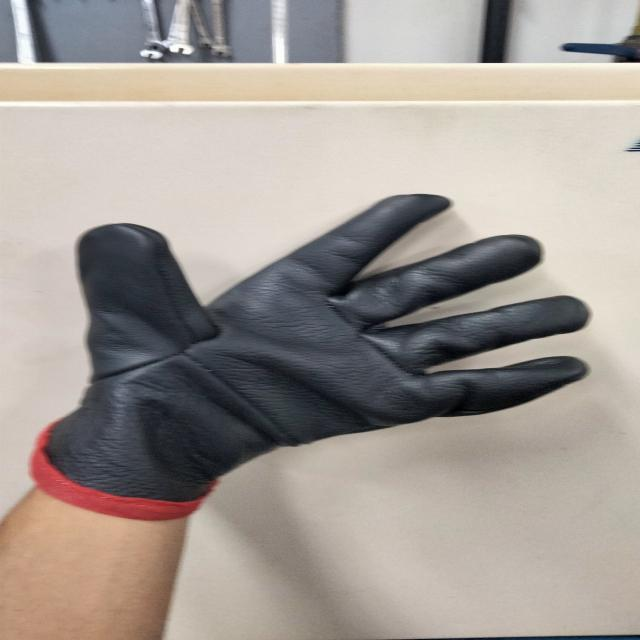Gloves: (41, 196, 570, 504)
